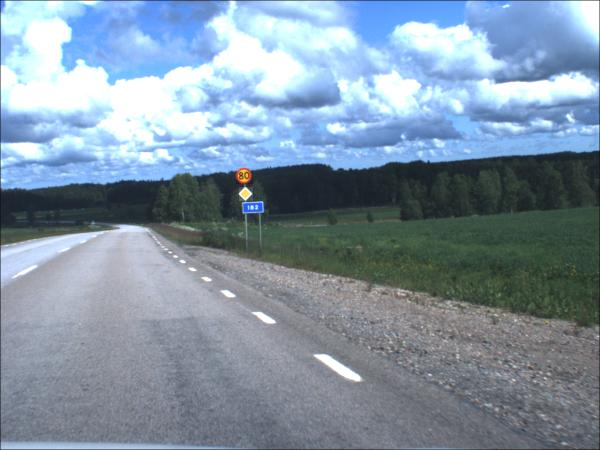80_SIGN: (237, 169, 255, 186)
PRIORITY_ROAD: (240, 188, 255, 203)
